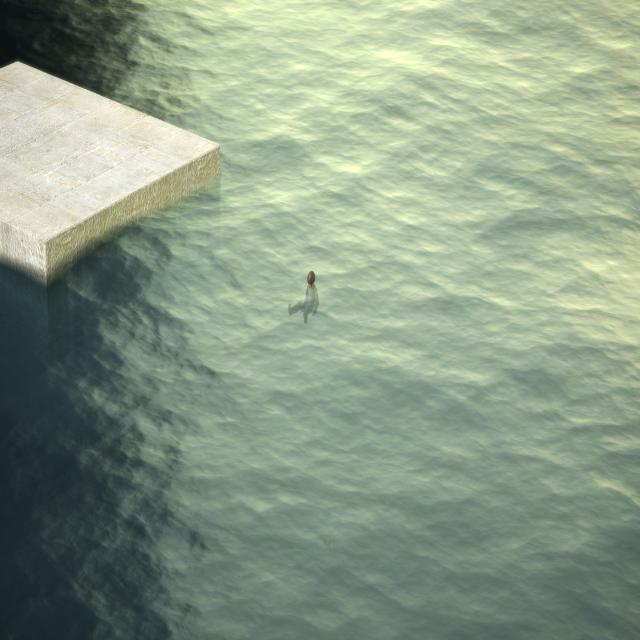Human: (286, 266, 321, 325)
